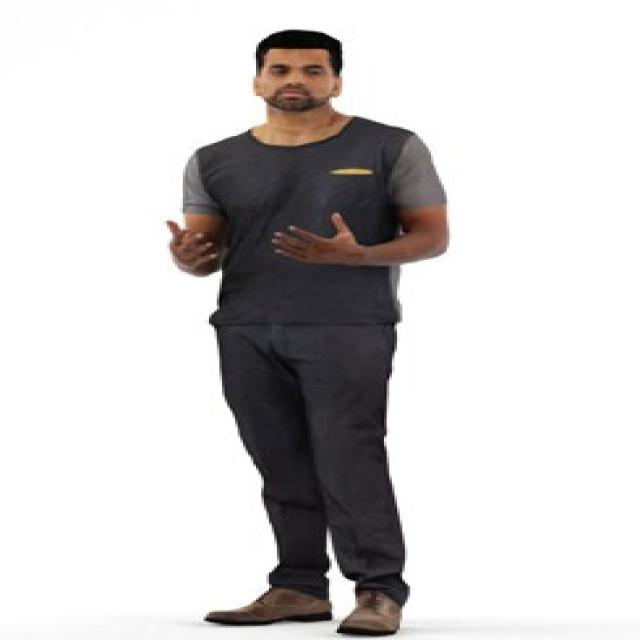standing: (156, 29, 456, 640)
